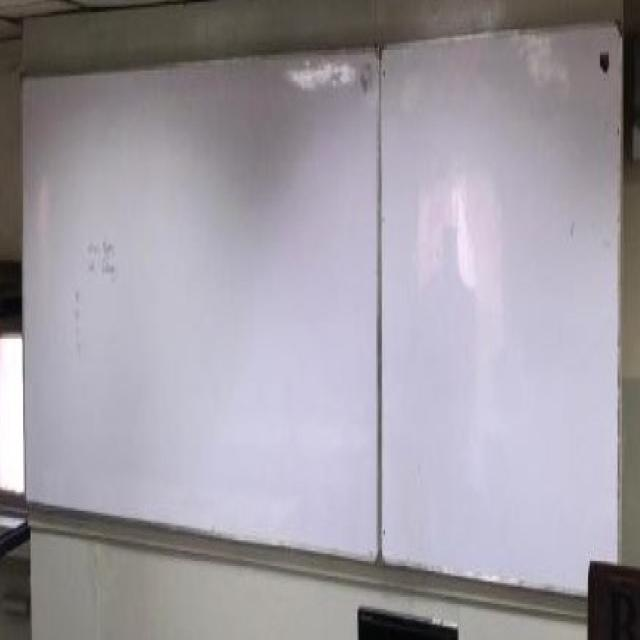White-board: (20, 25, 622, 591)
